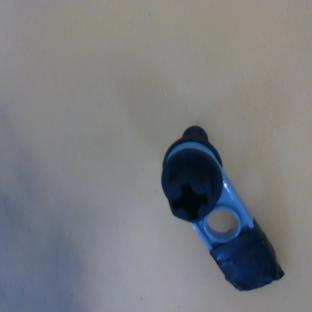part_1_bad: (139, 121, 288, 309)
